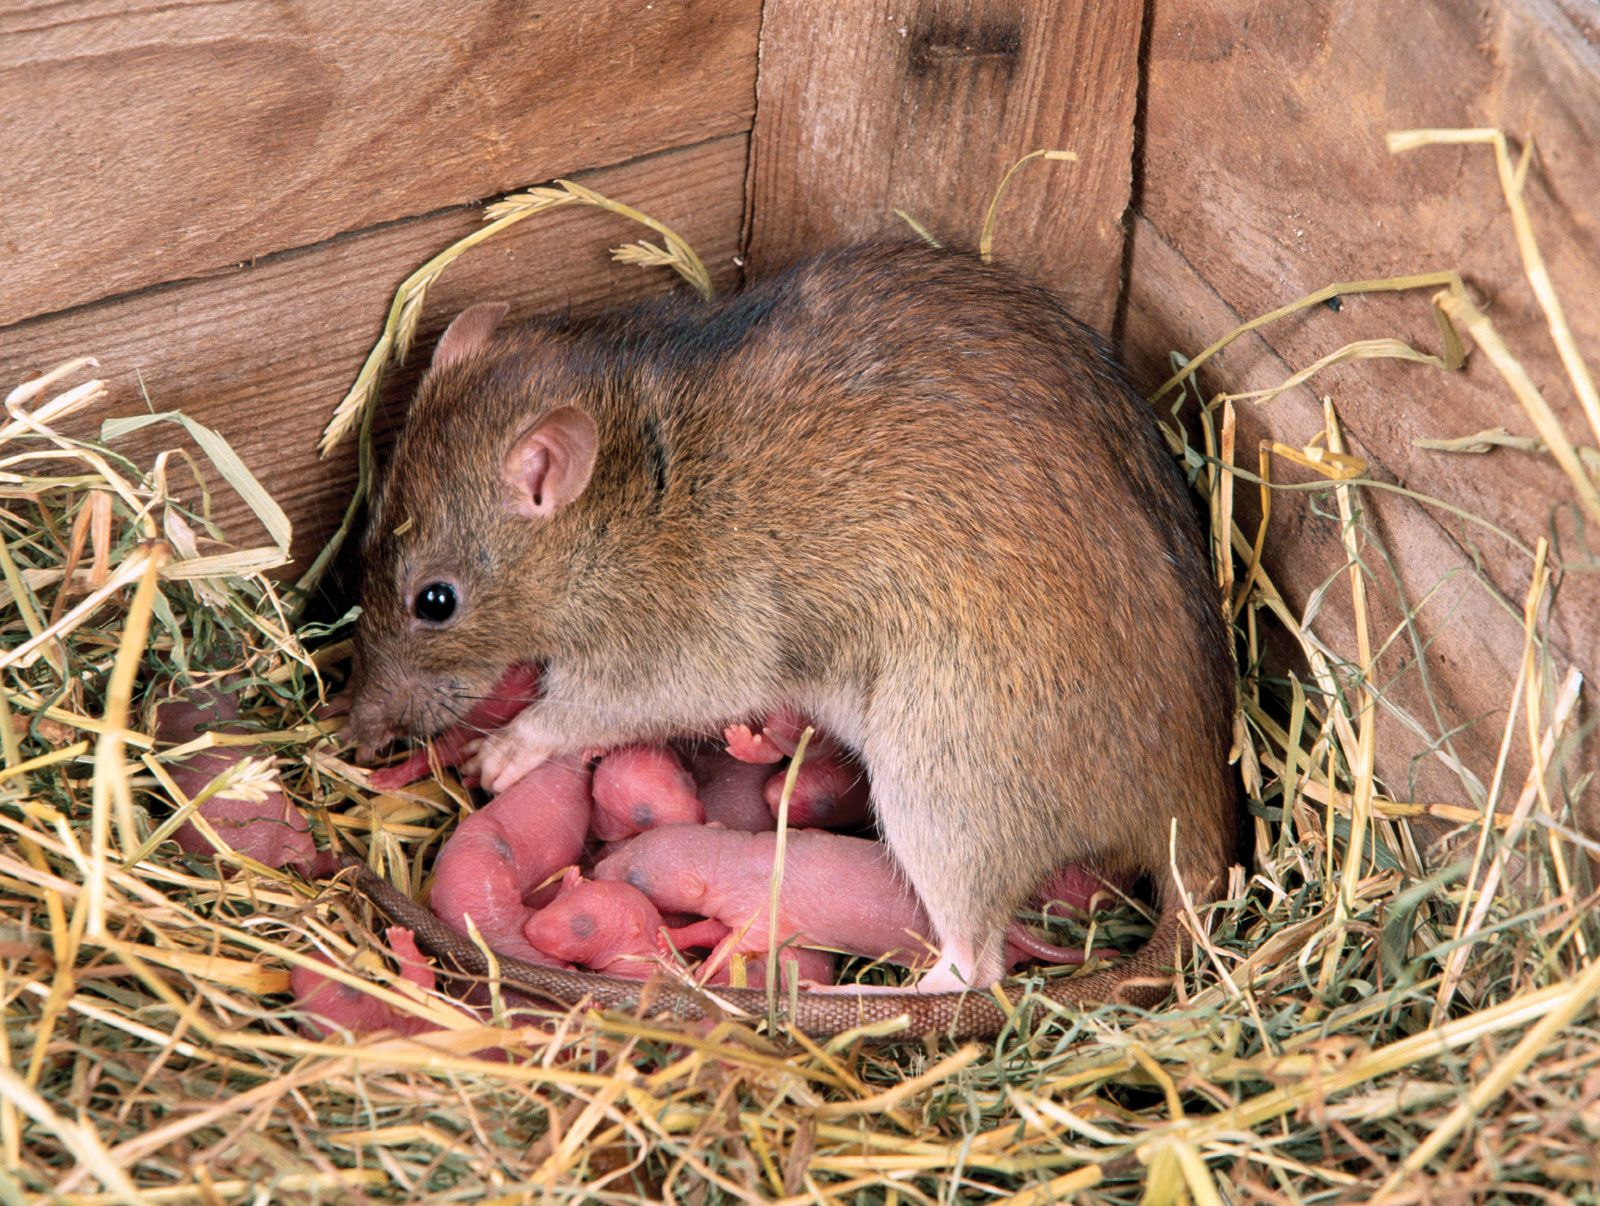Rat: (322, 234, 1257, 1008)
